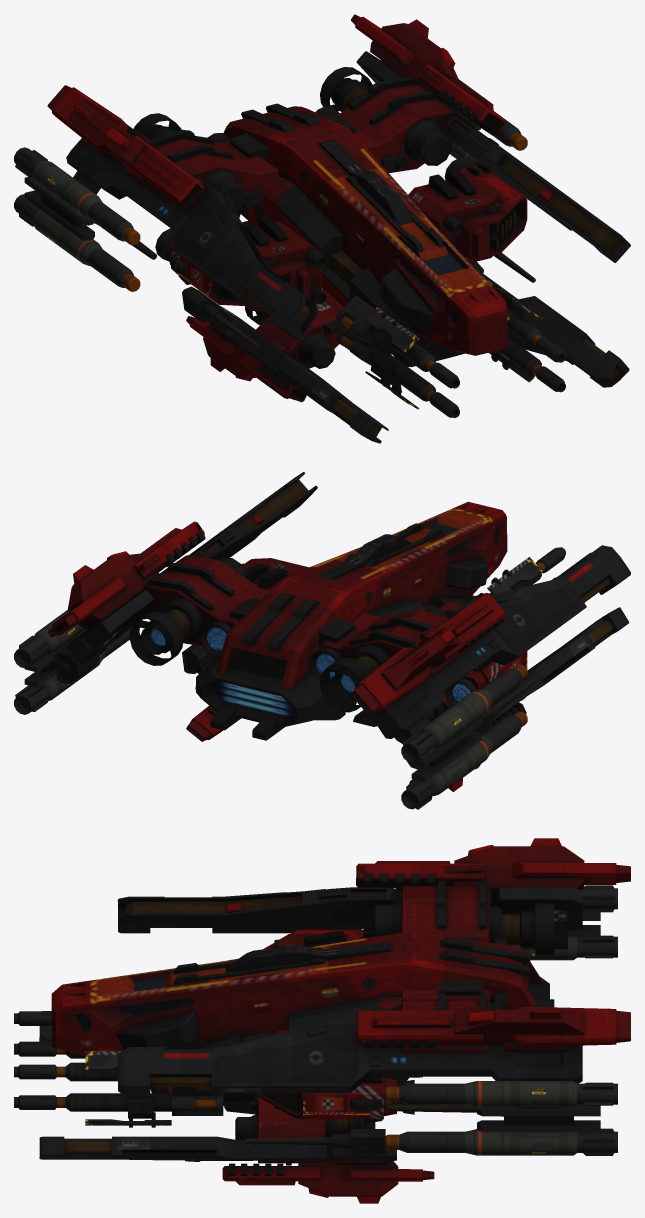
The model's file is vanguard.glb.
3 renders of one model, top to bottom at view 1: azimuth 30°, elevation 25°; view 2: azimuth 150°, elevation 25°; view 3: azimuth 270°, elevation 25°, orthographic. The views are drawn at different scales.
Visible parts, largest first — view 1: GXX_Cockpit-C001, GXX_L-Wing-A006, GXX_L-Wing-A003, GXX_L-Wing-A007, GXX_L-Prop-D001, GXX_L-LaserX008, GXX_L-Prop-D002, GXX_L-Wing-A005, GXX_L-MissileA002, GXX_L-LaserX007, GXX_L-MissileB002, GXX_L-Rack002 (+1 smaller); view 2: GXX_Cockpit-C001, GXX_L-Wing-A006, GXX_L-Wing-A003, GXX_L-Wing-A007, GXX_L-MissileA002, GXX_L-MissileB002, GXX_L-Prop-D002, GXX_L-Rack002, GXX_L-MissileB001, GXX_L-LaserX008, GXX_L-MissileA001, GXX_L-Wing-A005 (+2 smaller); view 3: GXX_Cockpit-C001, GXX_L-Wing-A003, GXX_L-Wing-A006, GXX_L-Wing-A005, GXX_L-LaserX007, GXX_L-MissileA001, GXX_L-MissileB001, GXX_L-Prop-D001, GXX_L-Rack001, GXX_L-MissileB002, GXX_L-Prop-D002, GXX_L-LaserX008 (+2 smaller).
Boxes of the visible parts, box(x1,y1,x2,y2) form: GXX_Cockpit-C001: box(223, 103, 507, 367); GXX_L-Wing-A006: box(47, 85, 317, 340); GXX_L-Wing-A003: box(315, 14, 630, 262); GXX_L-Wing-A007: box(182, 286, 388, 443); GXX_L-Prop-D001: box(408, 158, 527, 262); GXX_L-LaserX008: box(336, 295, 459, 418); GXX_L-Prop-D002: box(155, 216, 326, 311); GXX_L-Wing-A005: box(474, 252, 629, 387); GXX_L-MissileA002: box(14, 147, 140, 245); GXX_L-LaserX007: box(487, 280, 565, 392); GXX_L-MissileB002: box(14, 194, 140, 291); GXX_L-Rack002: box(24, 176, 94, 240); GXX_Cockpit-C001: box(196, 501, 507, 740); GXX_L-Wing-A006: box(308, 545, 630, 769); GXX_L-Wing-A003: box(47, 472, 317, 683); GXX_L-Wing-A007: box(394, 607, 629, 791); GXX_L-MissileA002: box(401, 665, 527, 762); GXX_L-MissileB002: box(401, 711, 527, 809); GXX_L-Prop-D002: box(438, 598, 527, 706); GXX_L-Rack002: box(411, 718, 481, 781); GXX_L-MissileB001: box(14, 627, 131, 714); GXX_L-LaserX008: box(487, 547, 565, 594); GXX_L-MissileA001: box(14, 609, 84, 668); GXX_L-Wing-A005: box(182, 644, 222, 741); GXX_Cockpit-C001: box(51, 932, 549, 1114); GXX_L-Wing-A003: box(117, 979, 630, 1116); GXX_L-Wing-A006: box(117, 838, 630, 956); GXX_L-Wing-A005: box(39, 1093, 434, 1203); GXX_L-LaserX007: box(14, 1051, 223, 1127); GXX_L-MissileA001: box(385, 1081, 617, 1107); GXX_L-MissileB001: box(385, 1128, 617, 1155); GXX_L-Prop-D001: box(259, 1030, 414, 1123); GXX_L-Rack001: box(477, 1104, 600, 1131); GXX_L-MissileB002: box(509, 935, 617, 960); GXX_L-Prop-D002: box(263, 926, 372, 949); GXX_L-LaserX008: box(14, 1011, 85, 1058).
Size of the model in its own units: 10.45 by 5.15 by 13.21.
2 materials, 2 textured.
